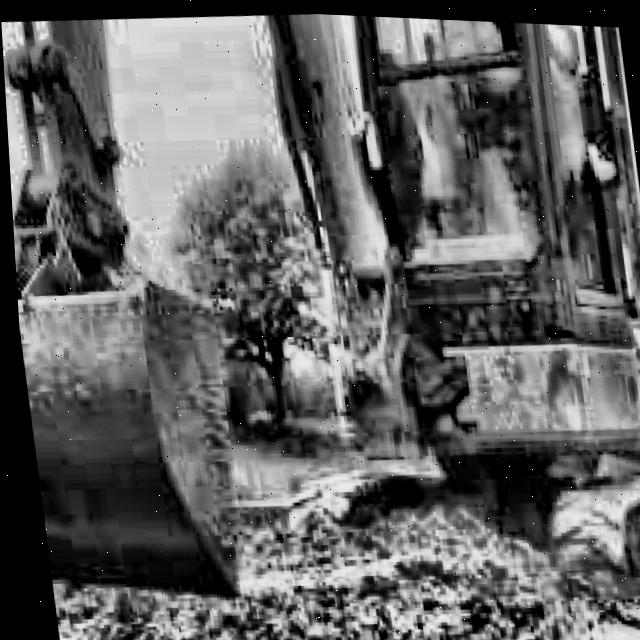excavator: (0, 0, 640, 628)
